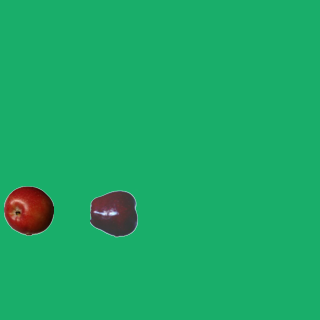Apple Braeburn: (3, 185, 53, 235)
Apple Red Delicious: (89, 188, 139, 238)
